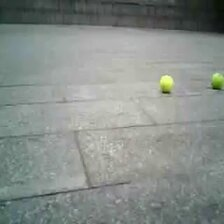tennis: (210, 72, 224, 88), (160, 75, 173, 92)
